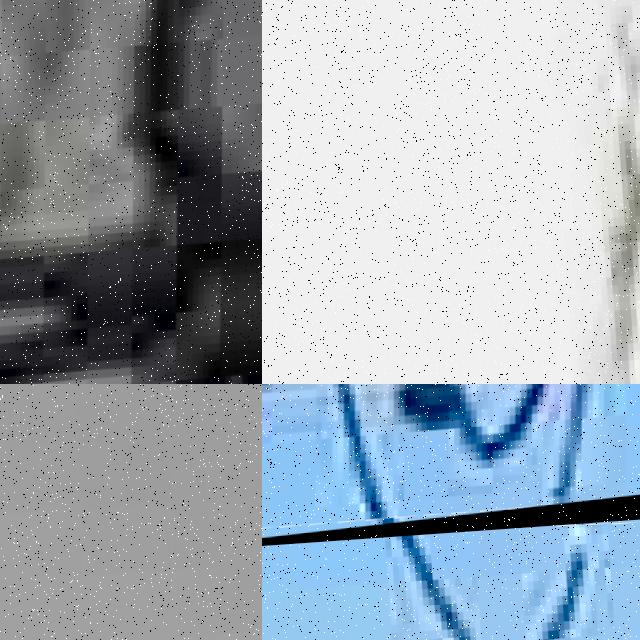drone: (0, 0, 262, 384), (262, 384, 640, 557)
